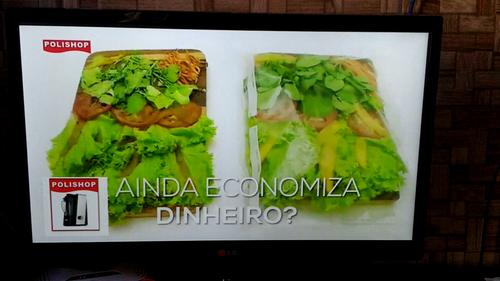Polishop #1: (44, 177, 109, 237)
